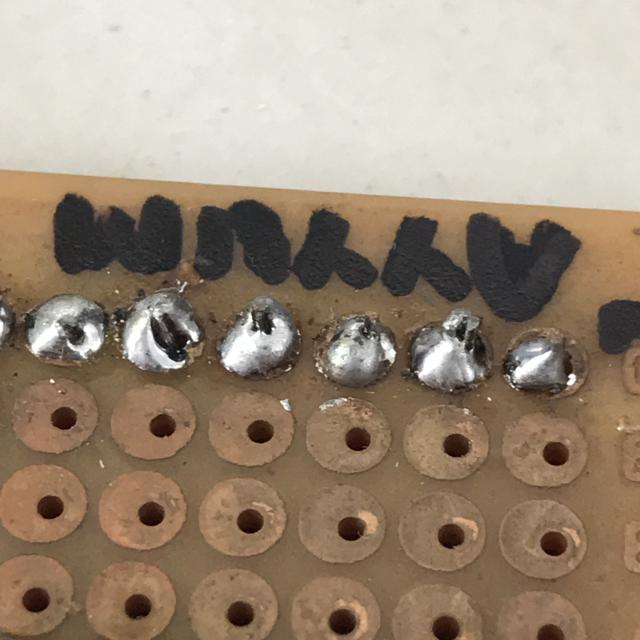hole: (210, 290, 308, 386), (17, 284, 113, 376), (402, 310, 498, 400)
pad_less: (111, 284, 210, 380), (308, 302, 403, 393), (498, 320, 596, 407)
